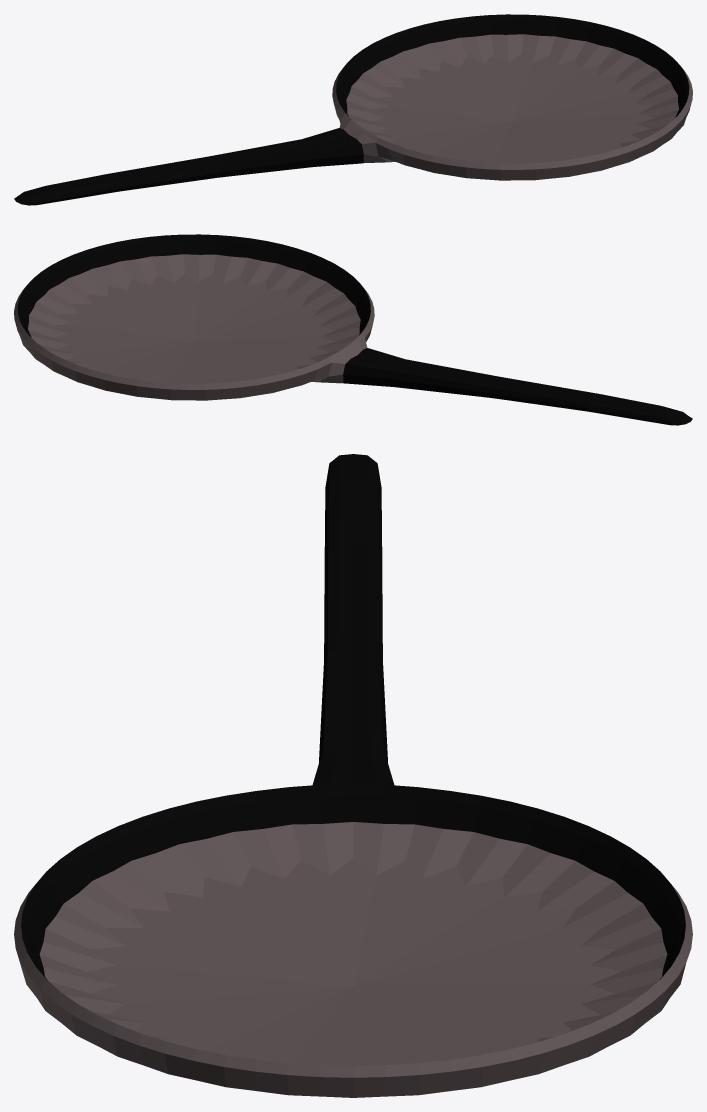
File: pan.fbx
The picture shows the model from 3 angles, top to bottom: view 1: azimuth 30°, elevation 25°; view 2: azimuth 150°, elevation 25°; view 3: azimuth 270°, elevation 25°; orthographic projection. The views are drawn at different scales.
Parts seen in each view (by area): view 1: Cylinder; view 2: Cylinder; view 3: Cylinder.
Part boxes in pixels (<box>): Cylinder: <box>14,14,692,205</box>; Cylinder: <box>14,234,692,425</box>; Cylinder: <box>14,454,692,1097</box>.
Size of the model in its own units: 351 by 733 by 50.96.
Materials: 1 (1 with a texture image).
